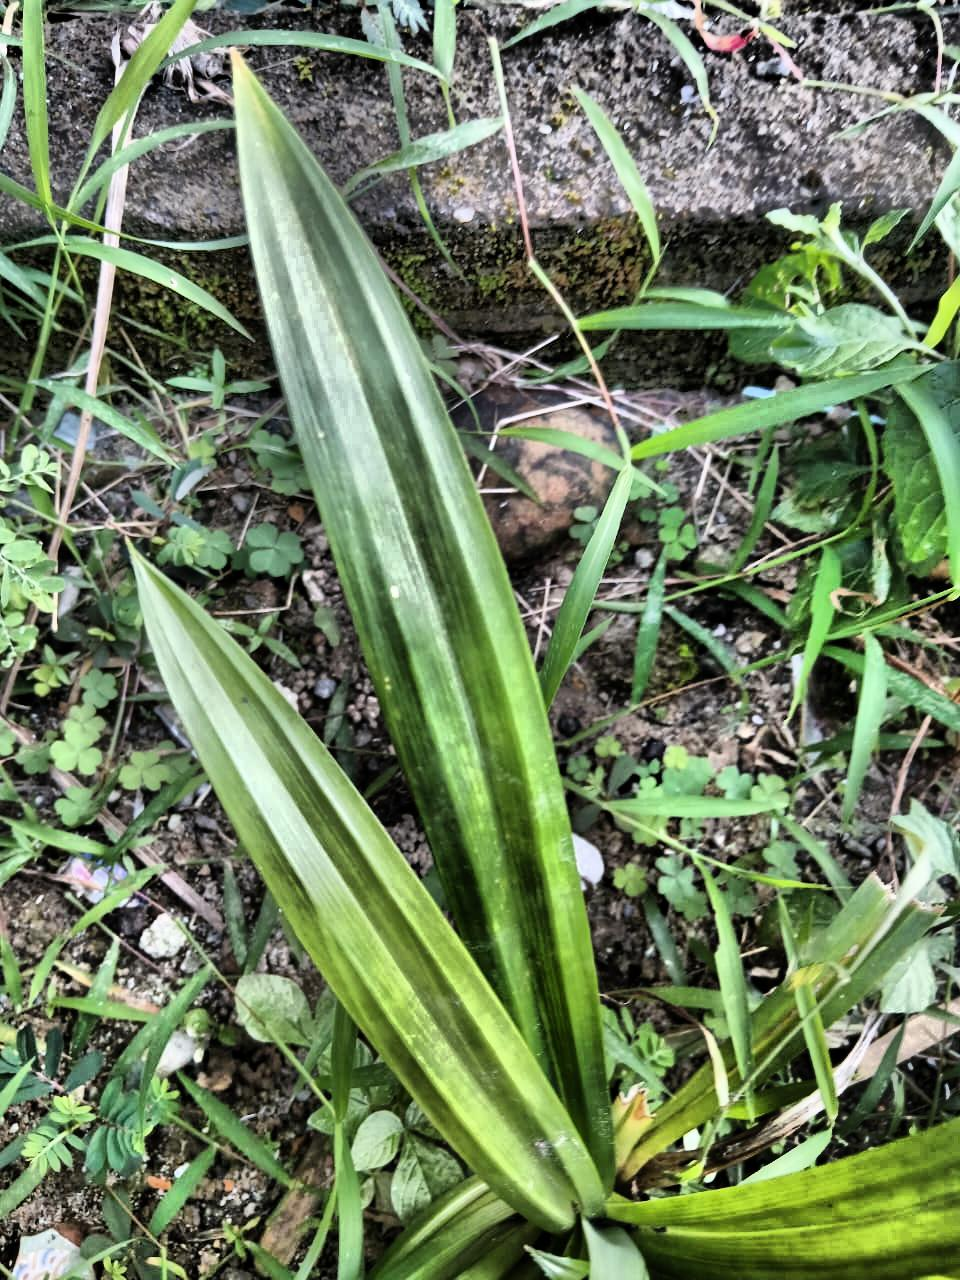daun pandan: (130, 51, 959, 1279)
